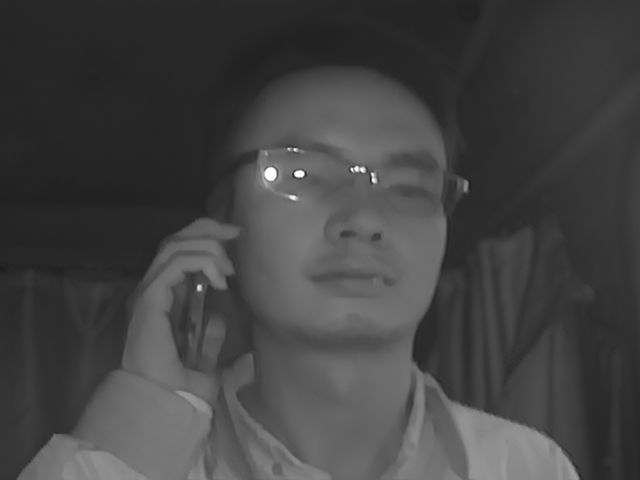hand: (119, 216, 245, 391)
